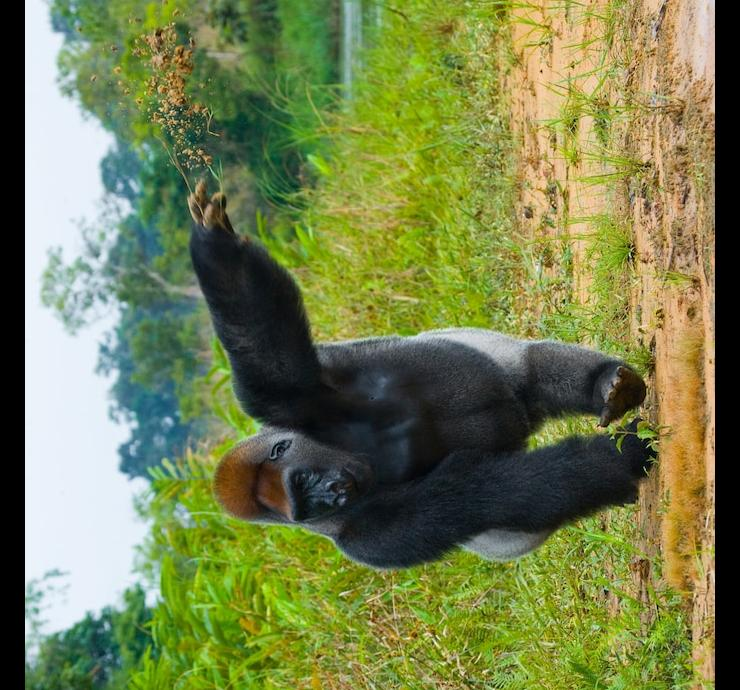gorille_Autres: (156, 154, 664, 635)
